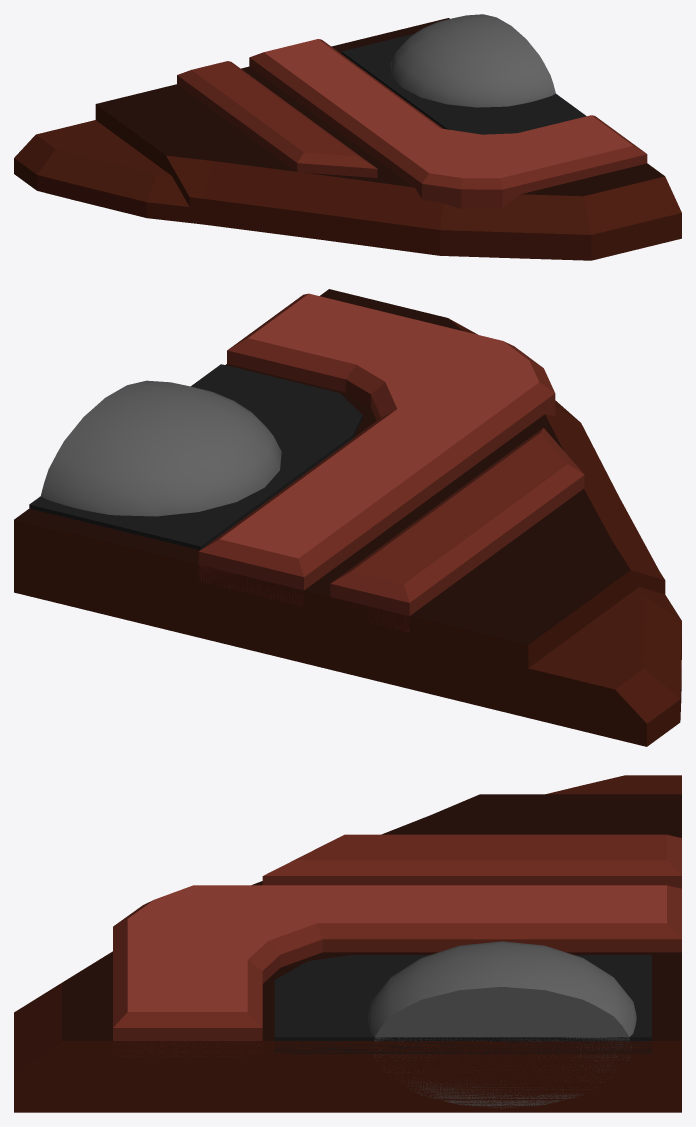
File: newshf-230.glb
3 renders of one model, top to bottom at view 1: azimuth 30°, elevation 25°; view 2: azimuth 150°, elevation 25°; view 3: azimuth 270°, elevation 25°, orthographic. The views are drawn at different scales.
Parts seen in each view (by area): view 1: newshf-230; view 2: newshf-230; view 3: newshf-230.
Boxes of the visible parts, x1,y1,x2,y2 form: newshf-230: (14,14,681,260); newshf-230: (14,289,681,746); newshf-230: (14,775,681,1112).
Bounding box in the file's own units: 2 × 0.3975 × 1.86.
